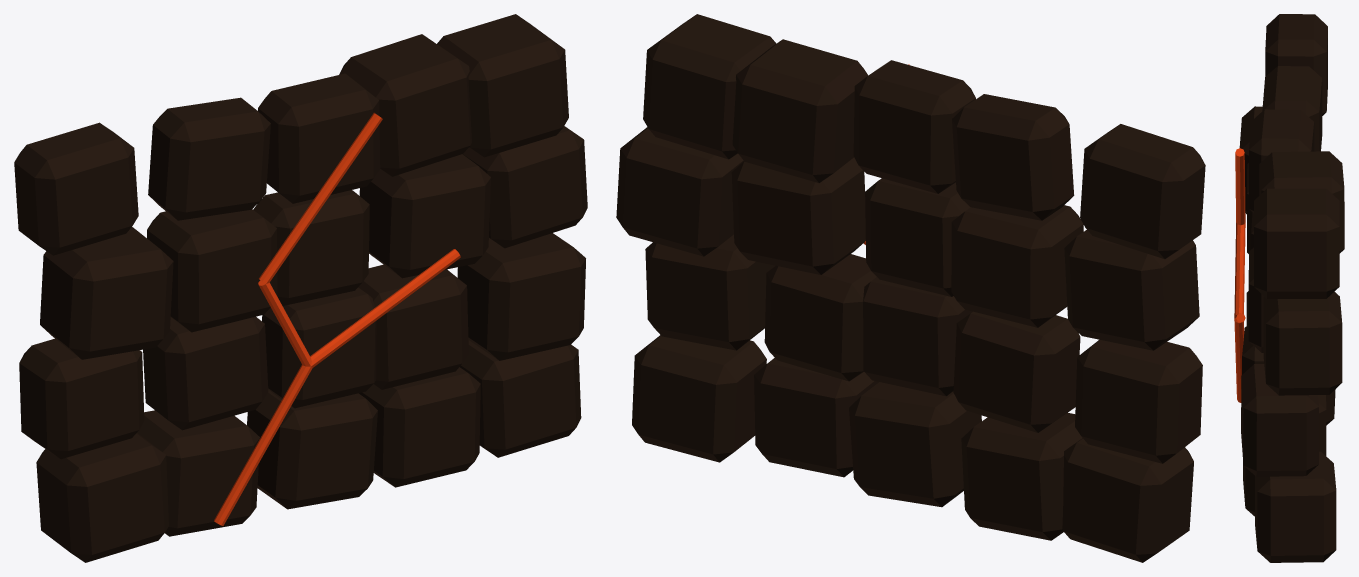
File: SM_MP_Fractured_Seam.fbx
3 views of the same model, side by side, from view 1: azimuth 30°, elevation 25°; view 2: azimuth 150°, elevation 25°; view 3: azimuth 270°, elevation 25° (orthographic). The views are drawn at different scales.
Visible parts, largest first — view 1: SM_MP_Fractured_Seam; view 2: SM_MP_Fractured_Seam; view 3: SM_MP_Fractured_Seam.
Part boxes in pixels (<box>): SM_MP_Fractured_Seam: <box>14,14,587,562</box>; SM_MP_Fractured_Seam: <box>616,14,1205,562</box>; SM_MP_Fractured_Seam: <box>1234,14,1344,562</box>.
Size of the model in its own units: 626 by 128 by 441.
Materials: 1 (1 with a texture image).
